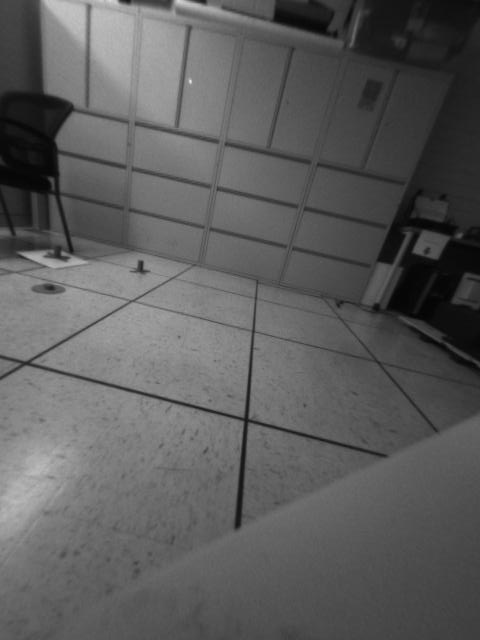X: (42, 242, 71, 262), (128, 258, 150, 275)
